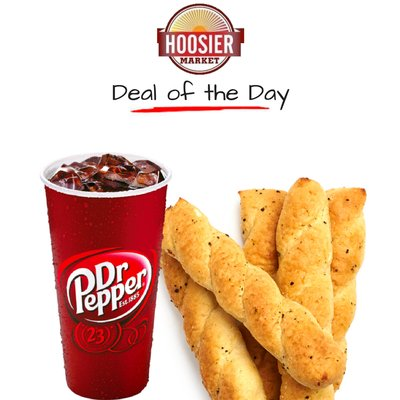pizza: (41, 153, 173, 396)
